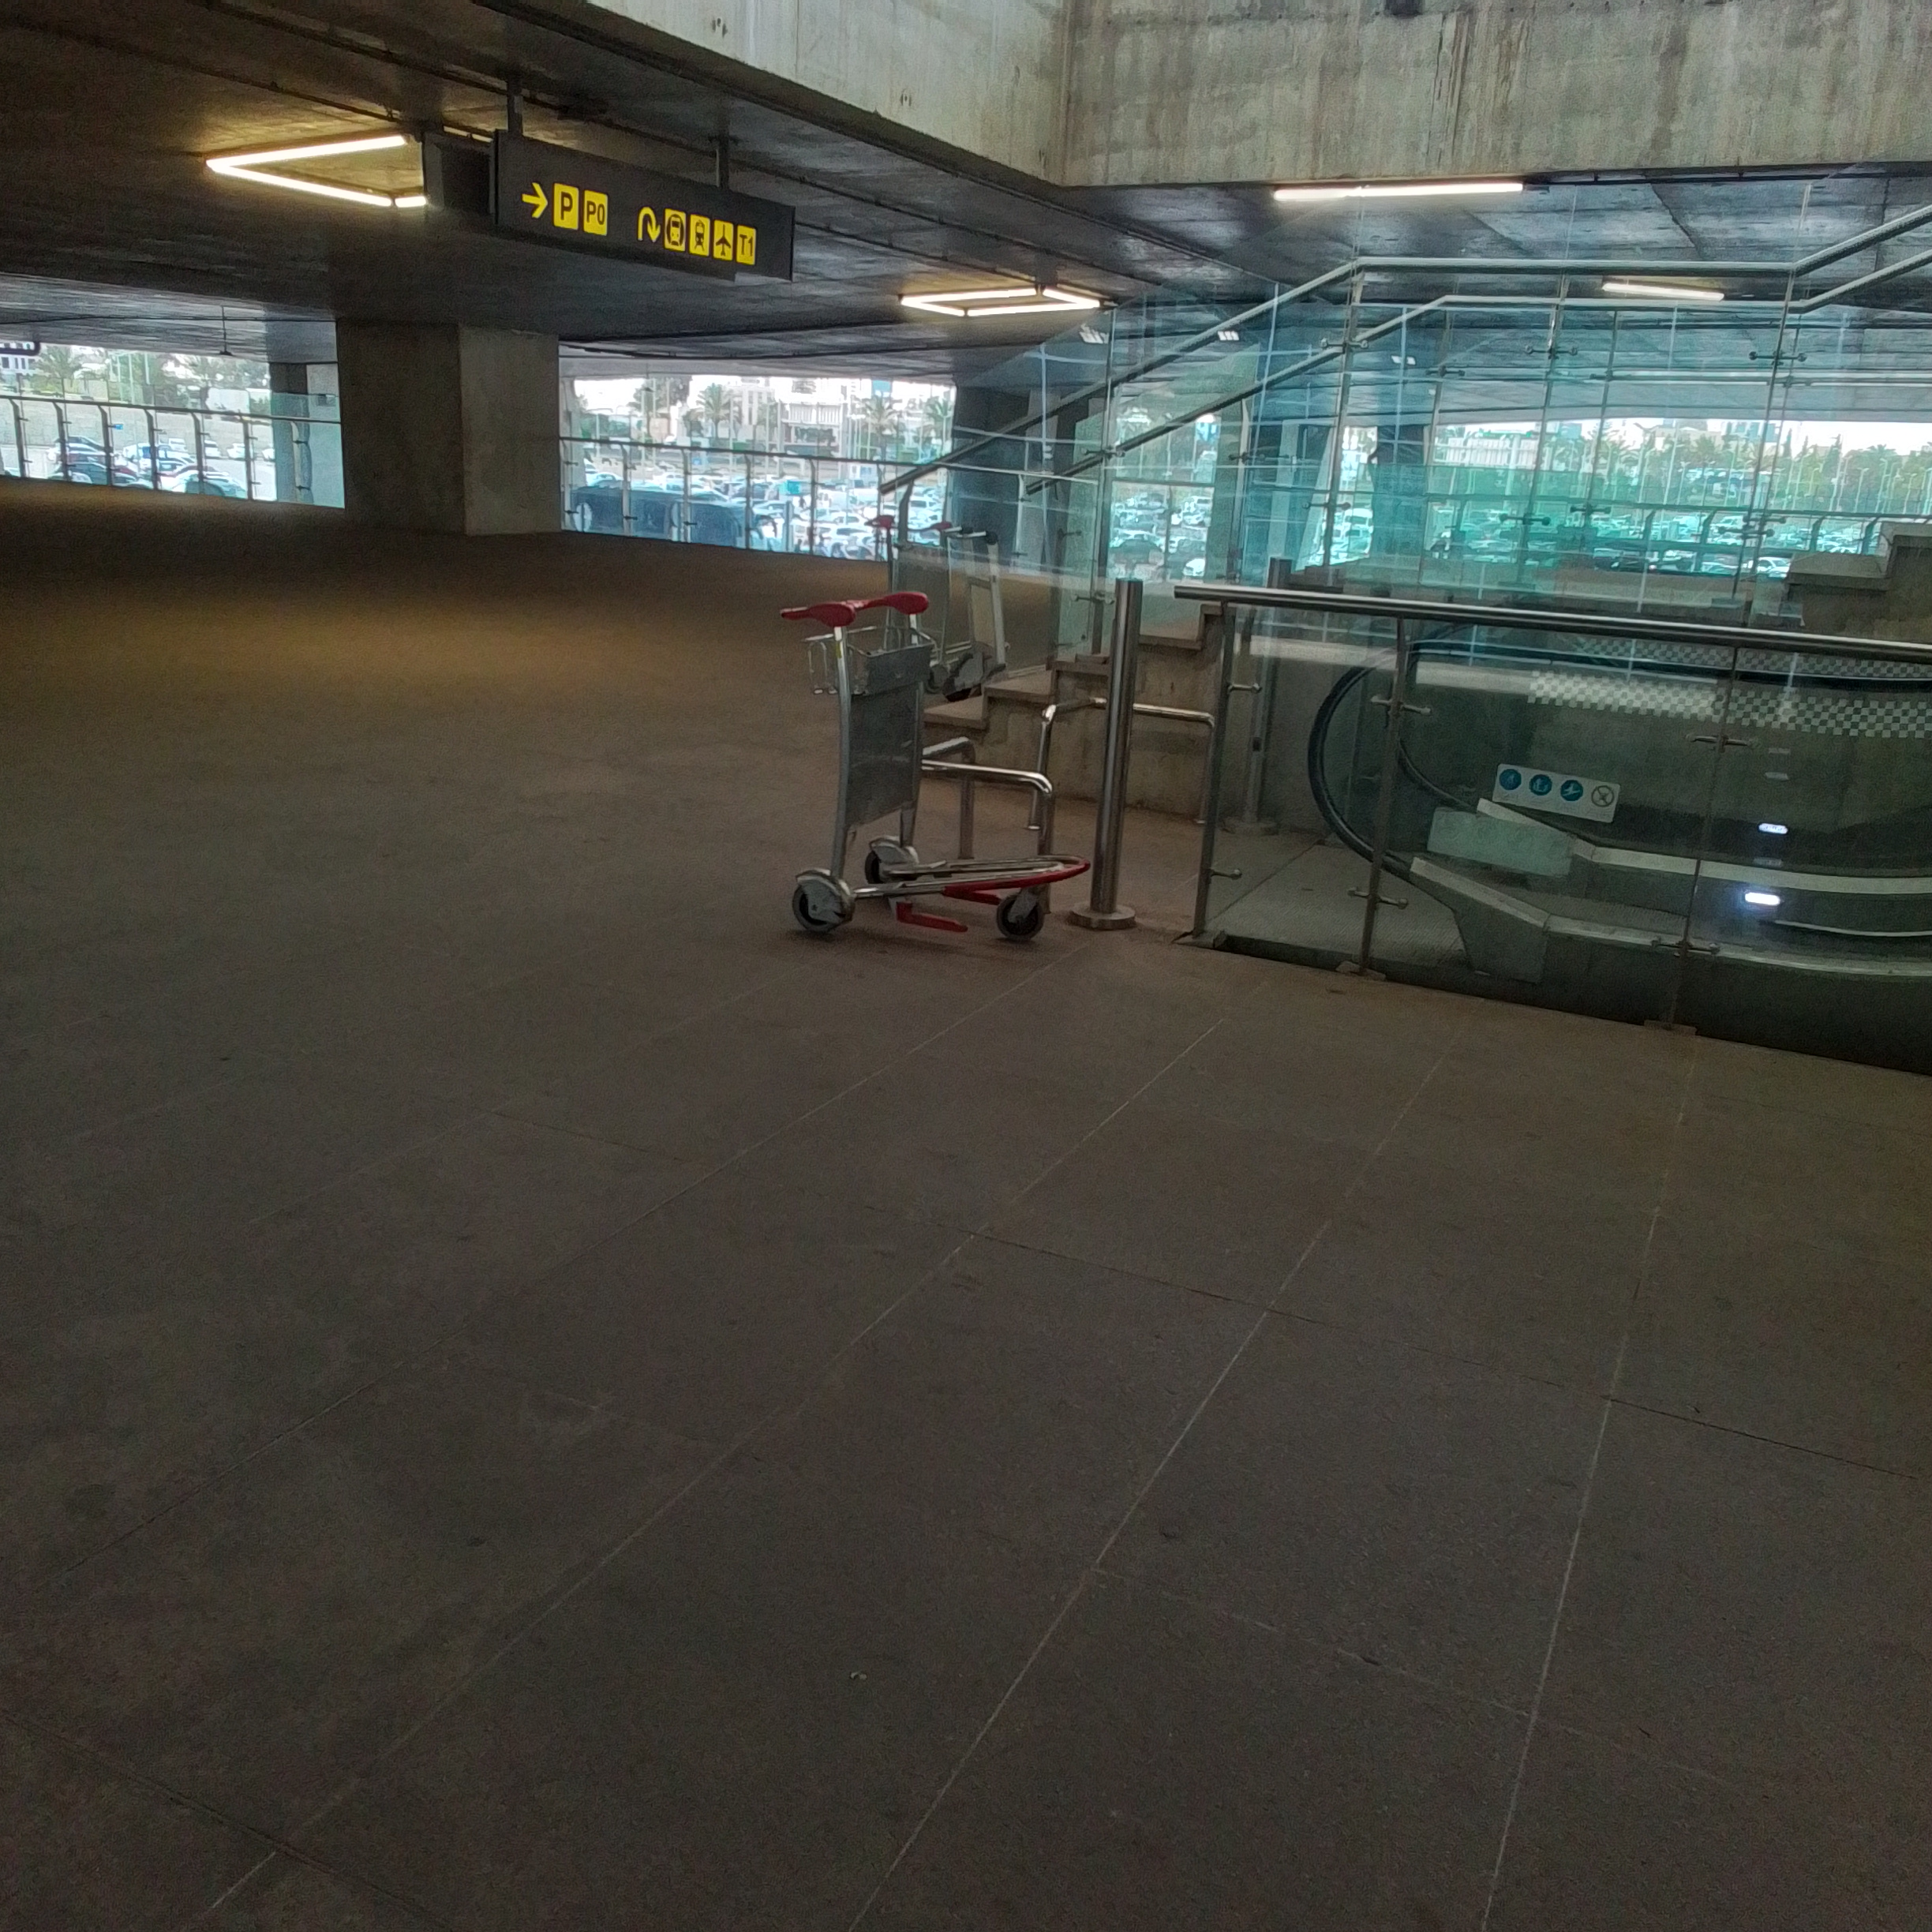airport-trolley: (787, 602, 1099, 938)
